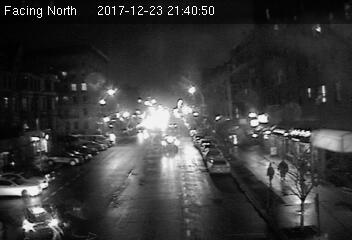car: (207, 158, 230, 174), (160, 136, 180, 150)
pedestrian: (264, 163, 276, 190)
